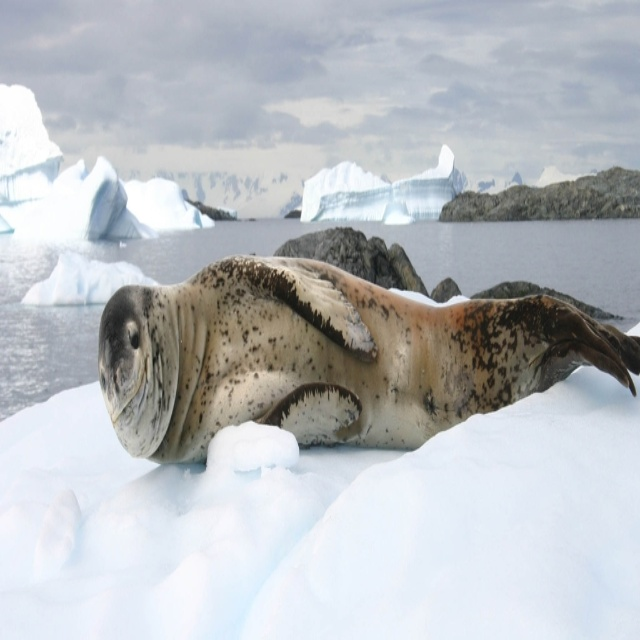Harbor seal: (97, 245, 639, 463)
